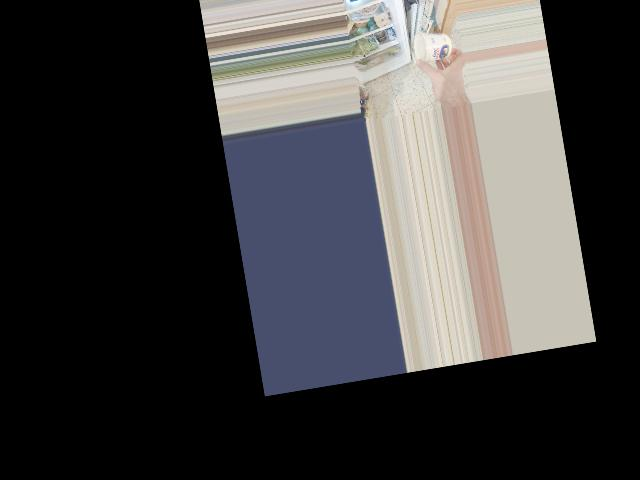cotage: (412, 27, 454, 64)
